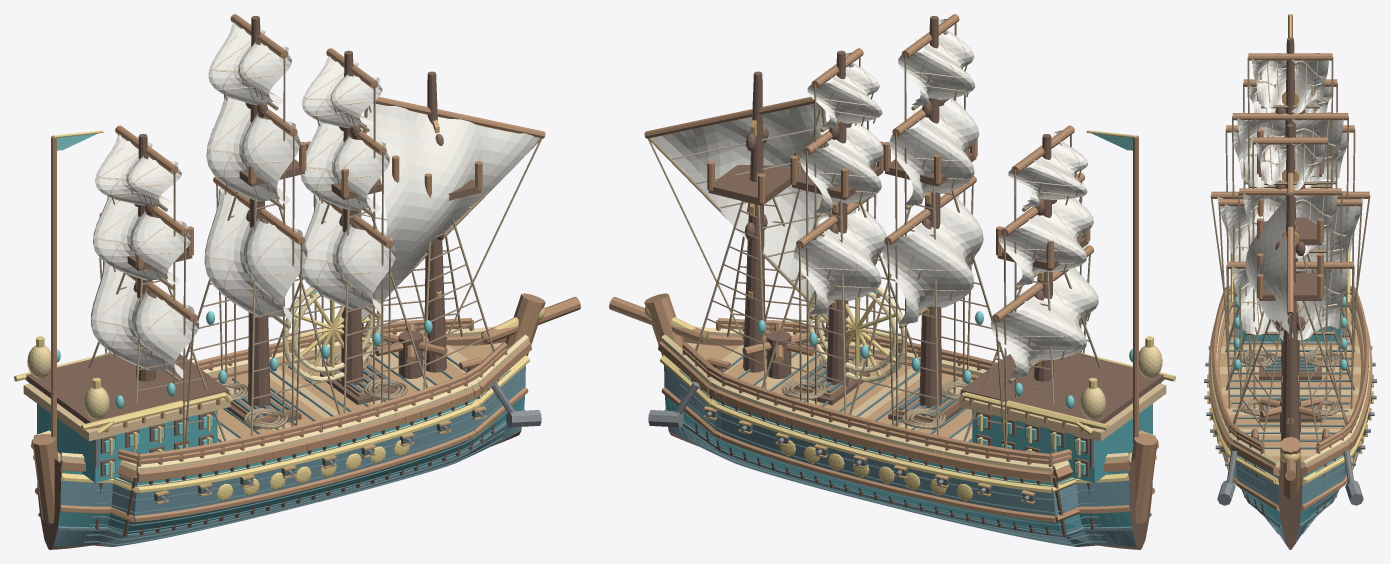
File: astheria_flagship-v5.glb
The picture shows the model from 3 angles, left to right: view 1: azimuth 30°, elevation 25°; view 2: azimuth 150°, elevation 25°; view 3: azimuth 270°, elevation 25°; orthographic projection. The views are drawn at different scales.
Visible parts, largest first — view 1: astheria_flagship_sails_white, astheria_flagship_hull_hull2, astheria_flagship_hull_blue, astheria_flagship_masts_darkwood, astheria_flagship_rigging_rope, astheria_flagship_hull_ghostdark, astheria_flagship_deck_darkwood, astheria_flagship_railings_hull2, astheria_flagship_rigging_hull2, astheria_flagship_hull_teal, astheria_flagship_hull_pale, astheria_flagship_masts_rope (+22 smaller); view 2: astheria_flagship_sails_white, astheria_flagship_masts_darkwood, astheria_flagship_hull_hull2, astheria_flagship_hull_blue, astheria_flagship_rigging_rope, astheria_flagship_hull_ghostdark, astheria_flagship_deck_darkwood, astheria_flagship_railings_hull2, astheria_flagship_rigging_hull2, astheria_flagship_hull_teal, astheria_flagship_rigging_sailshade, astheria_flagship_masts_rope (+22 smaller); view 3: astheria_flagship_sails_white, astheria_flagship_rigging_rope, astheria_flagship_masts_darkwood, astheria_flagship_rigging_hull2, astheria_flagship_hull_wood, astheria_flagship_hull_hull2, astheria_flagship_hull_ghostdark, astheria_flagship_railings_hull2, astheria_flagship_masts_rope, astheria_flagship_hull_decklight, astheria_flagship_rigging_sailshade, astheria_flagship_hull_blue (+17 smaller).
Part boxes in pixels (x1,y1,x2,y2): astheria_flagship_sails_white: (91,22,539,378); astheria_flagship_hull_hull2: (31,293,580,523); astheria_flagship_hull_blue: (53,365,525,546); astheria_flagship_masts_darkwood: (127,16,481,407); astheria_flagship_rigging_rope: (99,23,541,448); astheria_flagship_hull_ghostdark: (38,351,525,545); astheria_flagship_deck_darkwood: (25,354,229,476); astheria_flagship_railings_hull2: (118,318,507,475); astheria_flagship_rigging_hull2: (115,14,545,322); astheria_flagship_hull_teal: (58,341,524,533); astheria_flagship_hull_pale: (33,326,529,472); astheria_flagship_masts_rope: (88,191,494,452); astheria_flagship_sails_white: (652,19,1098,378); astheria_flagship_masts_darkwood: (708,16,1088,407); astheria_flagship_hull_hull2: (609,293,1158,523); astheria_flagship_hull_blue: (664,365,1136,546); astheria_flagship_rigging_rope: (648,23,1090,448); astheria_flagship_hull_ghostdark: (664,351,1151,545); astheria_flagship_deck_darkwood: (960,353,1164,476); astheria_flagship_railings_hull2: (682,318,1071,475); astheria_flagship_rigging_hull2: (644,14,1094,322); astheria_flagship_hull_teal: (665,341,1131,533); astheria_flagship_rigging_sailshade: (671,31,1096,360); astheria_flagship_masts_rope: (695,171,1101,452); astheria_flagship_sails_white: (1217,53,1363,341); astheria_flagship_rigging_rope: (1210,57,1370,427); astheria_flagship_masts_darkwood: (1259,37,1321,440); astheria_flagship_rigging_hull2: (1211,53,1369,315); astheria_flagship_hull_wood: (1220,312,1360,461); astheria_flagship_hull_hull2: (1208,300,1372,510); astheria_flagship_hull_ghostdark: (1224,312,1356,534); astheria_flagship_railings_hull2: (1212,285,1368,453); astheria_flagship_masts_rope: (1225,218,1355,443); astheria_flagship_hull_decklight: (1220,307,1360,456); astheria_flagship_rigging_sailshade: (1234,60,1346,326); astheria_flagship_hull_blue: (1226,452,1355,544).
Bounding box in the file's own units: 62.31 × 53.57 × 20.45.
